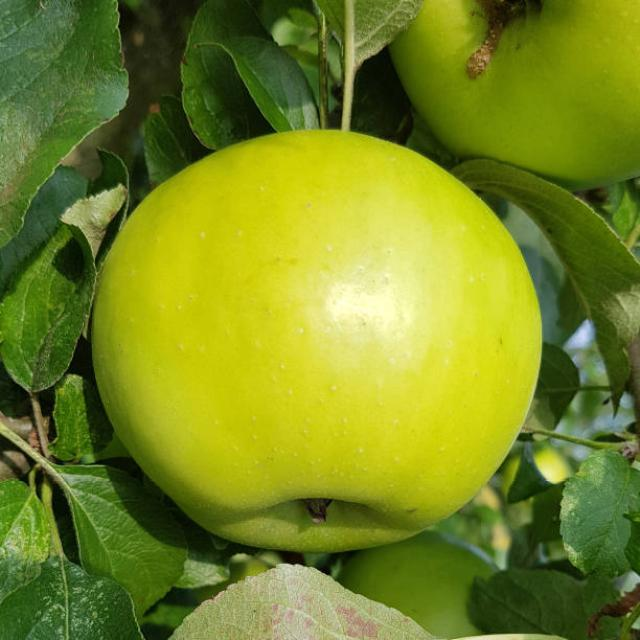Unripe: (88, 122, 541, 552)
